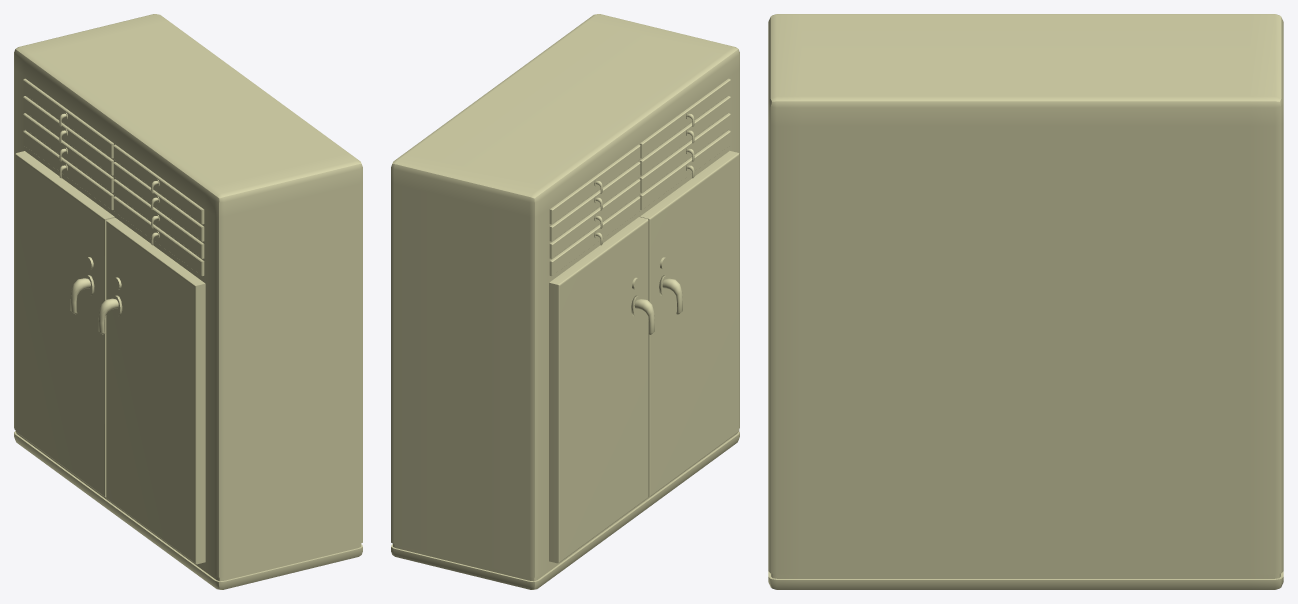
File: cabinet_low.fbx
The picture shows the model from 3 angles, left to right: view 1: azimuth 30°, elevation 25°; view 2: azimuth 150°, elevation 25°; view 3: azimuth 270°, elevation 25°; orthographic projection. The views are drawn at different scales.
Visible parts, largest first — view 1: Cabinet, RDoor, LDoor; view 2: Cabinet, LDoor, RDoor; view 3: Cabinet.
Boxes of the visible parts, <box> form: Cabinet: <box>14,14,362,589</box>; RDoor: <box>98,218,205,564</box>; LDoor: <box>15,151,114,497</box>; Cabinet: <box>391,14,739,589</box>; LDoor: <box>549,217,654,563</box>; RDoor: <box>640,151,739,497</box>; Cabinet: <box>768,14,1283,589</box>.
Bounding box in the file's own units: 0.9844 × 2.11 × 2.
